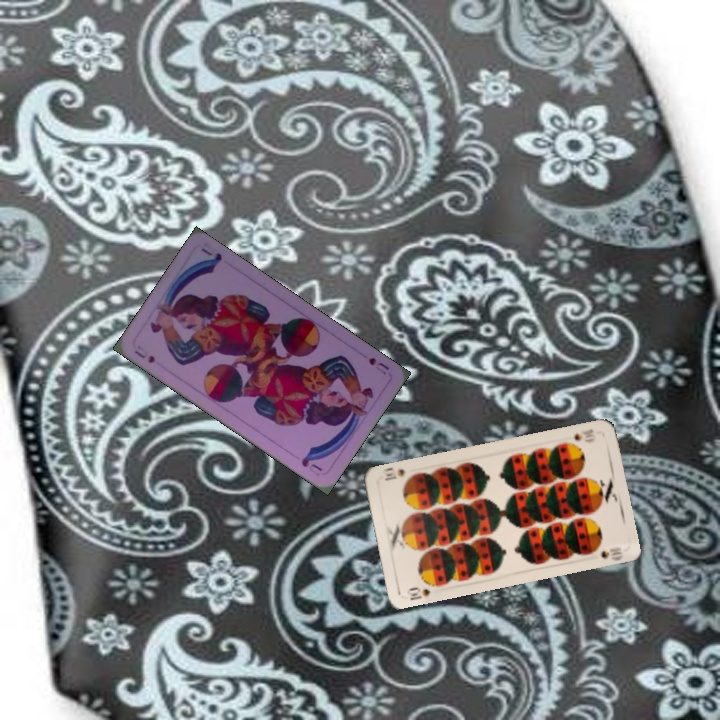S10: (403, 583, 433, 603), (570, 425, 598, 444)
SU: (364, 353, 392, 377), (131, 346, 158, 366)
